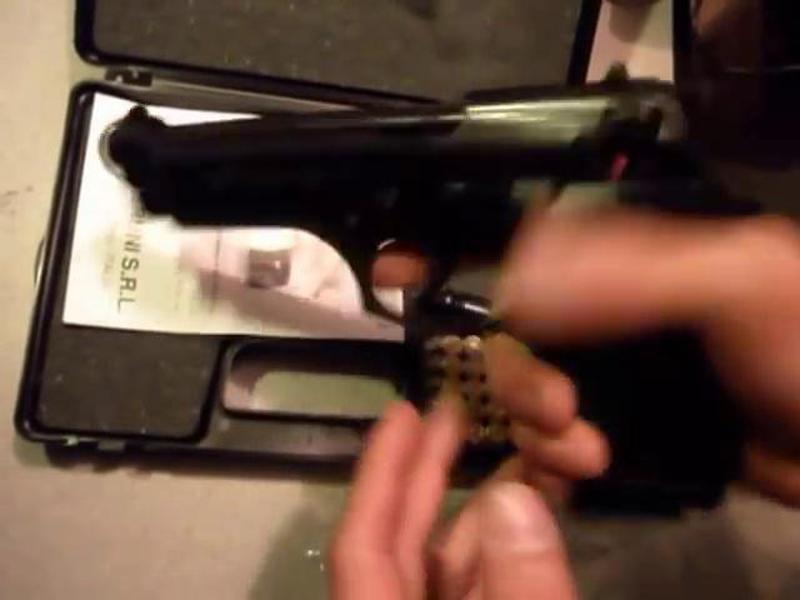Pistola: (106, 68, 727, 507)
